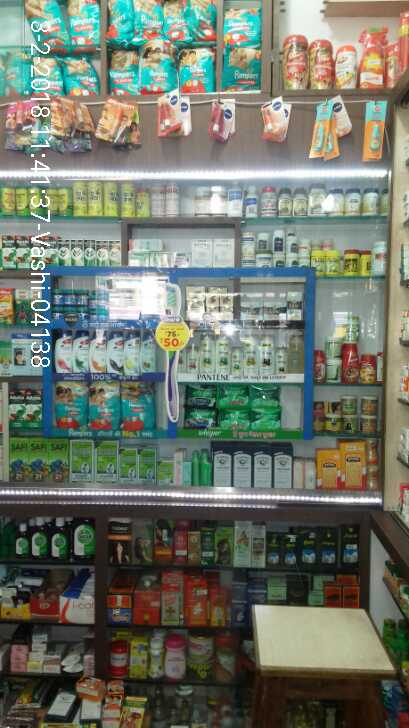beauty: (54, 331, 153, 377)
pharmacy: (23, 5, 261, 98), (178, 383, 278, 425), (122, 376, 156, 437), (87, 378, 120, 433), (55, 379, 88, 431)
